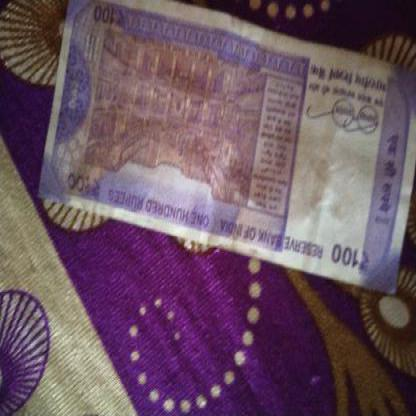New100Back: (38, 0, 411, 287)
